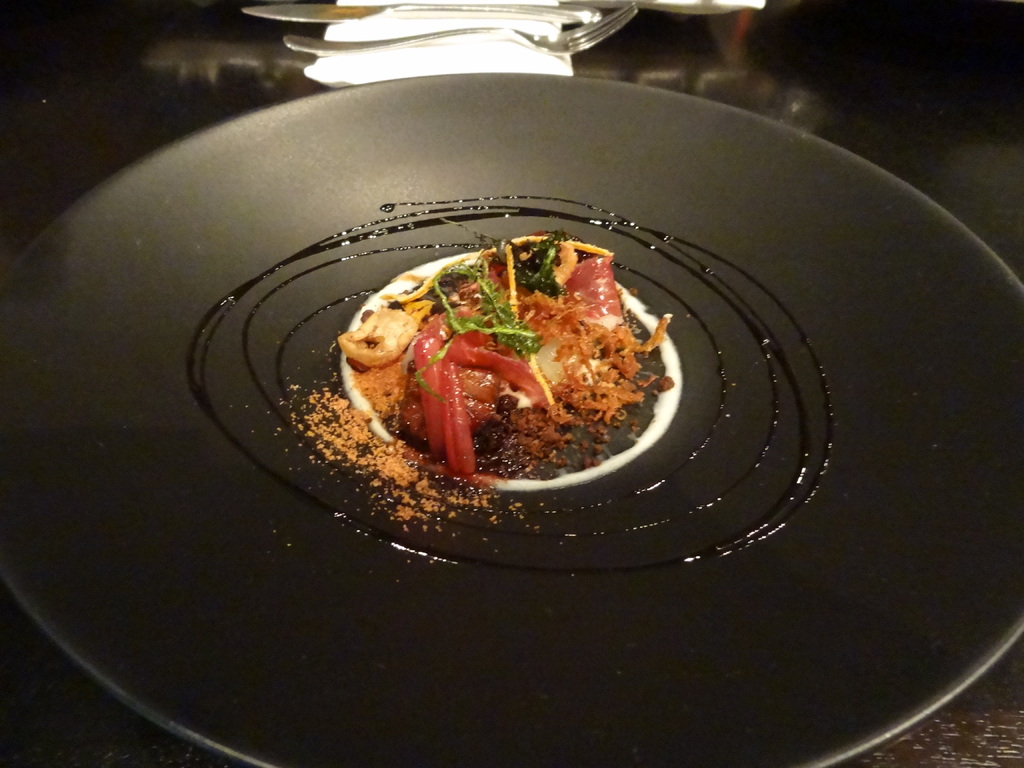fork: (283, 2, 638, 58)
